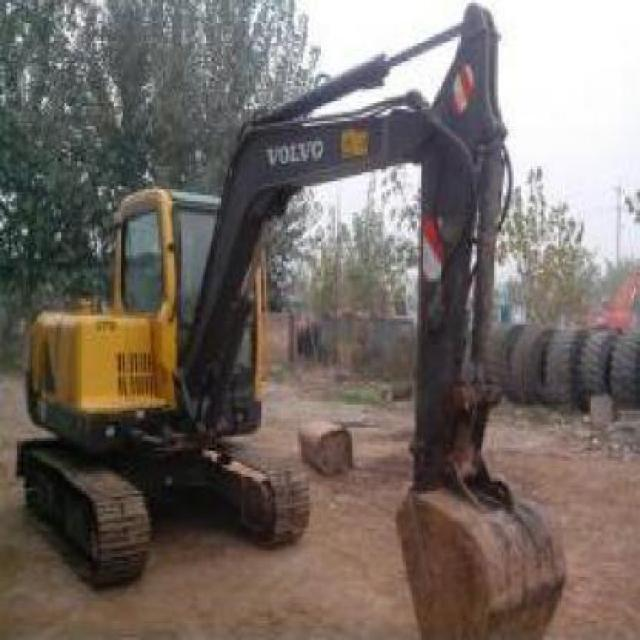Excavator: (9, 0, 565, 637)
